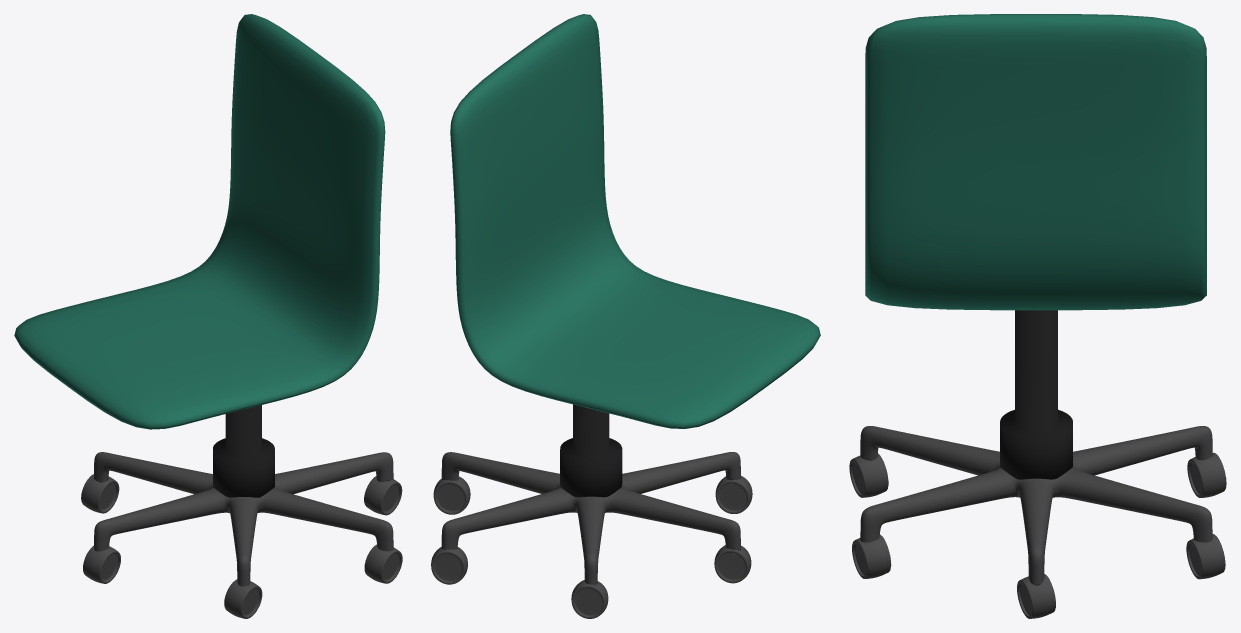
Rendered from Chair.glb.
3 renders of one model, left to right at view 1: azimuth 30°, elevation 25°; view 2: azimuth 150°, elevation 25°; view 3: azimuth 270°, elevation 25°, orthographic. The views are drawn at different scales.
Visible parts, largest first — view 1: Cube.047; view 2: Cube.047; view 3: Cube.047.
Boxes of the visible parts, x1=… form: Cube.047: x1=14, y1=14, x2=402, y2=618; Cube.047: x1=431, y1=14, x2=820, y2=618; Cube.047: x1=849, y1=14, x2=1226, y2=618.
Size of the model in its own units: 1.01 by 1.38 by 0.842.
